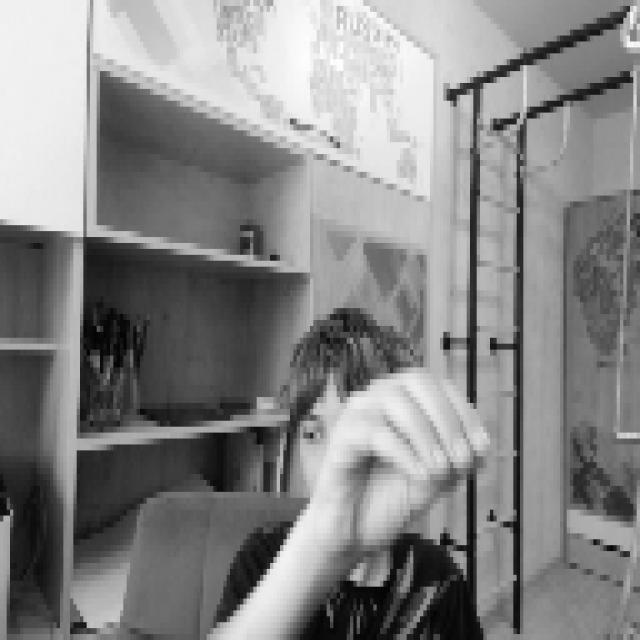left_click: (310, 356, 487, 545)
